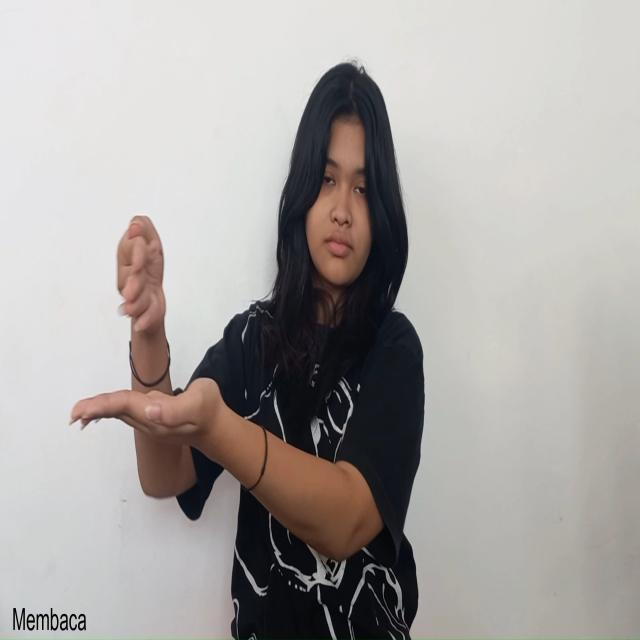Membaca -BISINDO-: (69, 213, 223, 462)
